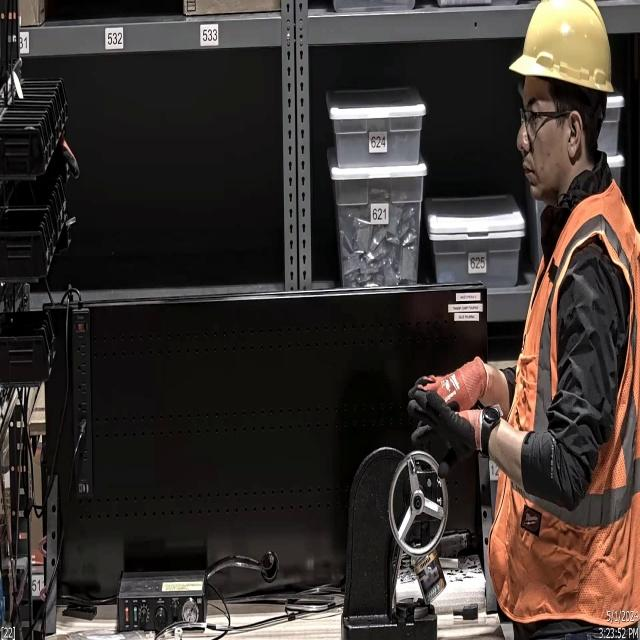gloves: (404, 388, 492, 464), (418, 352, 492, 419)
